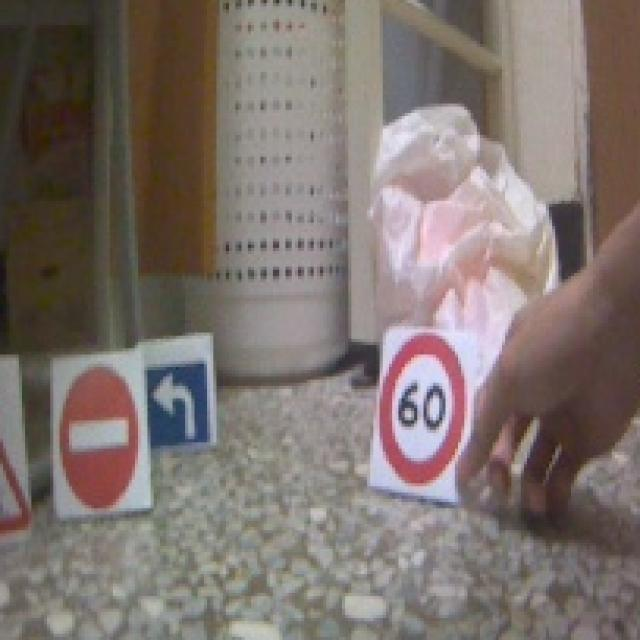DoNotEnterSign: (54, 356, 149, 511)
